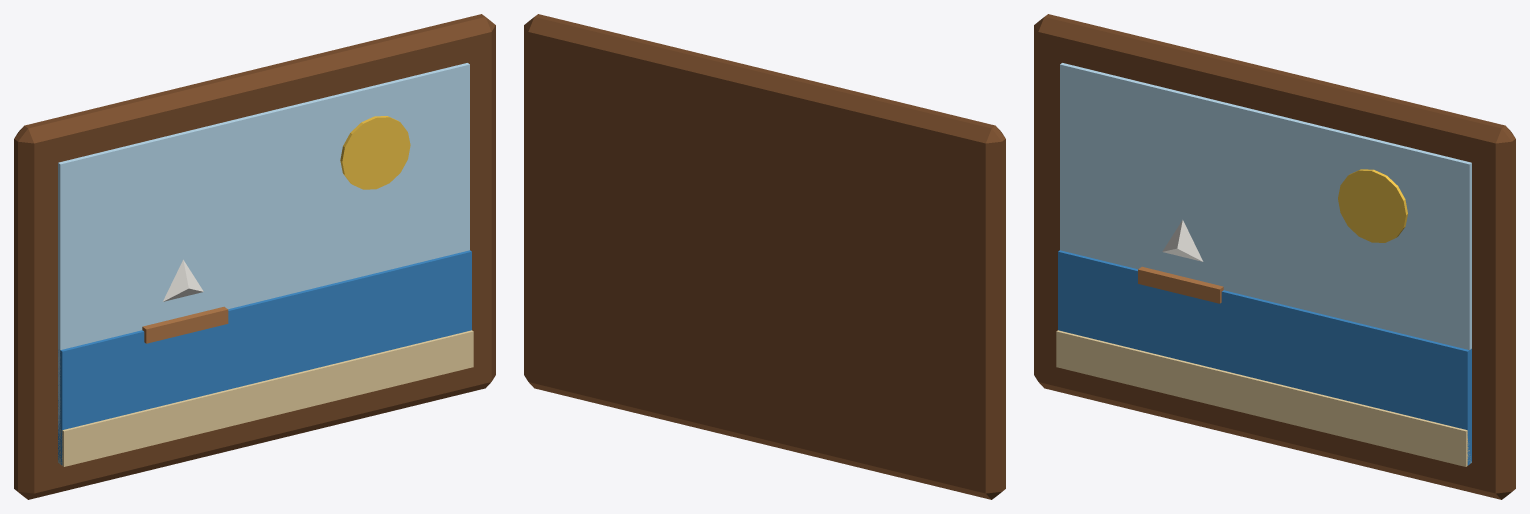
File: home_picture_v01.glb
The picture shows the model from 3 angles, left to right: view 1: azimuth 30°, elevation 25°; view 2: azimuth 150°, elevation 25°; view 3: azimuth 330°, elevation 25°; orthographic projection.
Parts seen in each view (by area): view 1: picture; view 2: picture; view 3: picture.
Part boxes in pixels (box(x1,y1,x2,y2)): picture: box(14, 14, 495, 499); picture: box(524, 14, 1005, 499); picture: box(1034, 14, 1515, 499).
Size of the model in its own units: 0.7 by 0.52 by 0.06.
